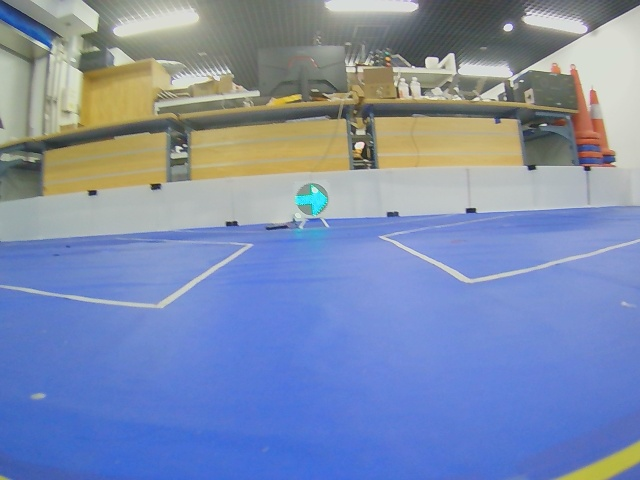right_green: (295, 183, 329, 217)
